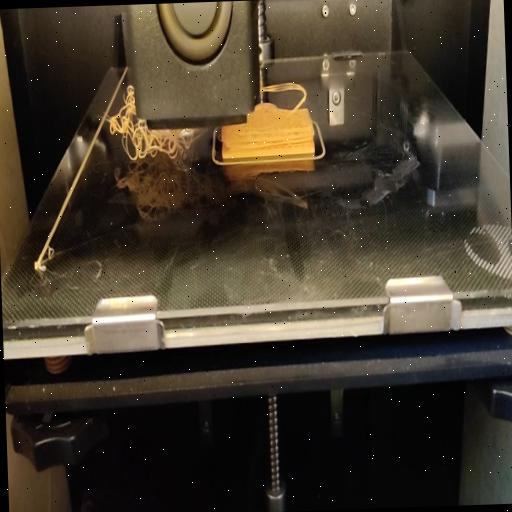spaghetti: (106, 83, 136, 168), (142, 124, 188, 164), (262, 78, 310, 106), (134, 116, 146, 165)
